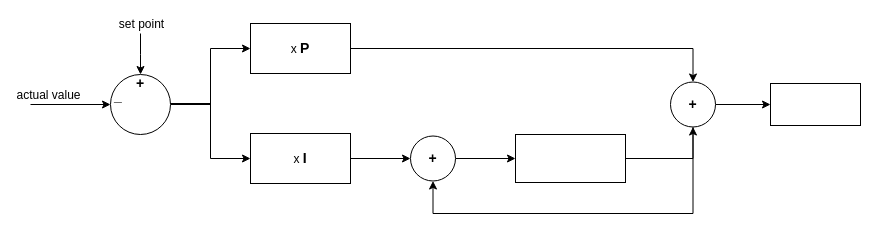
Image size: 879x239. Some labels were removed from this diagram. Each missing label, with the centre of its shape:
limit to +/- 4095: [570,158]
limit to 0-640: [815,104]
